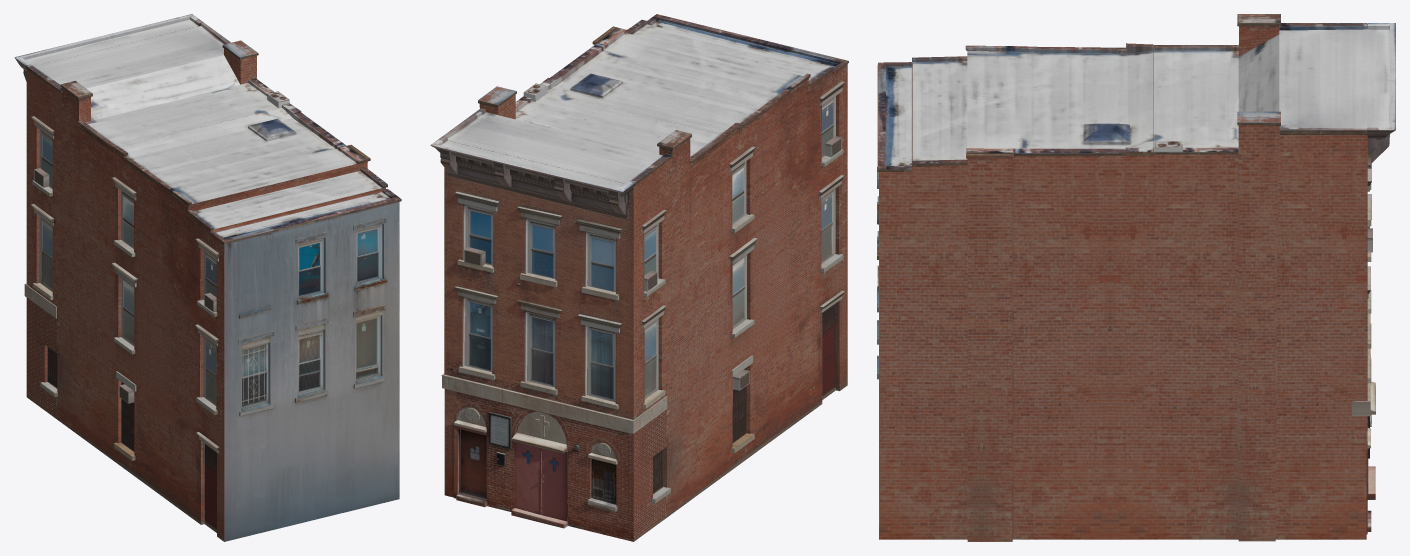
File: Apartment.fbx
The picture shows the model from 3 angles, left to right: view 1: azimuth 30°, elevation 25°; view 2: azimuth 150°, elevation 25°; view 3: azimuth 270°, elevation 25°; orthographic projection. The views are drawn at different scales.
Parts seen in each view (by area): view 1: fc2_low.001; view 2: fc2_low.001, Door, Door.001; view 3: fc2_low.001.
Boxes of the visible parts, left/top/right/bottom form: fc2_low.001: left=14, top=14, right=401, bottom=541; fc2_low.001: left=430, top=14, right=848, bottom=541; Door: left=514, top=442, right=541, bottom=514; Door.001: left=541, top=448, right=567, bottom=521; fc2_low.001: left=877, top=14, right=1395, bottom=541.
Bounding box in the file's own units: 677 × 1188 × 1332.
3 materials, 3 textured.
